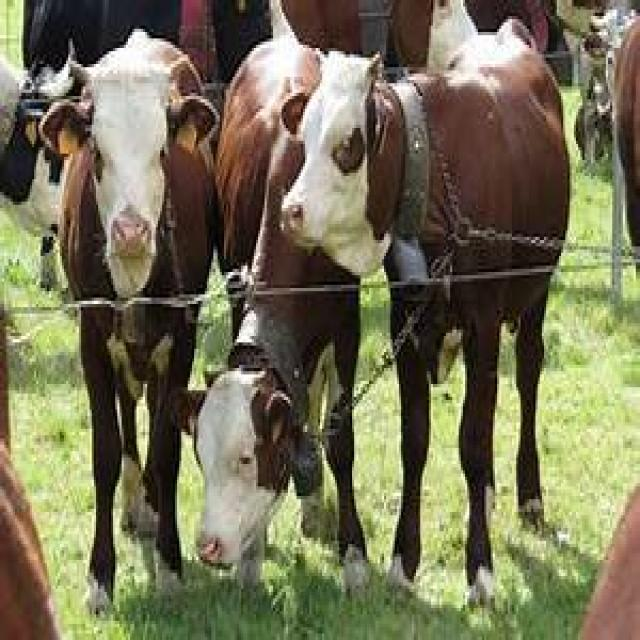cow: (262, 19, 572, 608), (194, 35, 361, 586)
